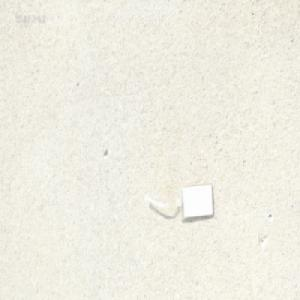LuggageTag: (143, 181, 214, 221)
